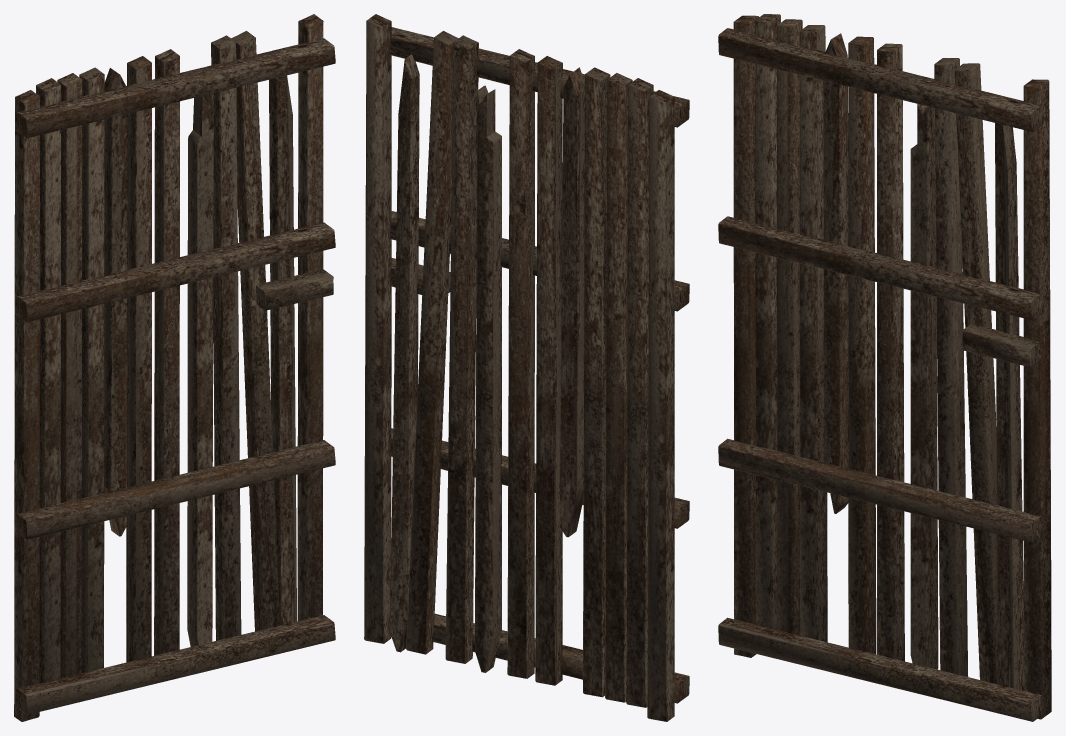
Rendered from HORSE_P_WoodenFrame02_02.FBX.
3 views of the same model, side by side, from view 1: azimuth 30°, elevation 25°; view 2: azimuth 150°, elevation 25°; view 3: azimuth 330°, elevation 25° (orthographic). The views are drawn at different scales.
Visible parts, largest first — view 1: HORSE_P_WoodenFrame02_02; view 2: HORSE_P_WoodenFrame02_02; view 3: HORSE_P_WoodenFrame02_02.
Boxes of the visible parts, box(x1,y1,x2,y2) form: HORSE_P_WoodenFrame02_02: box(14, 14, 335, 721); HORSE_P_WoodenFrame02_02: box(364, 14, 689, 721); HORSE_P_WoodenFrame02_02: box(718, 14, 1051, 721).
Bounding box in the file's own units: 102 × 199 × 12.2.
